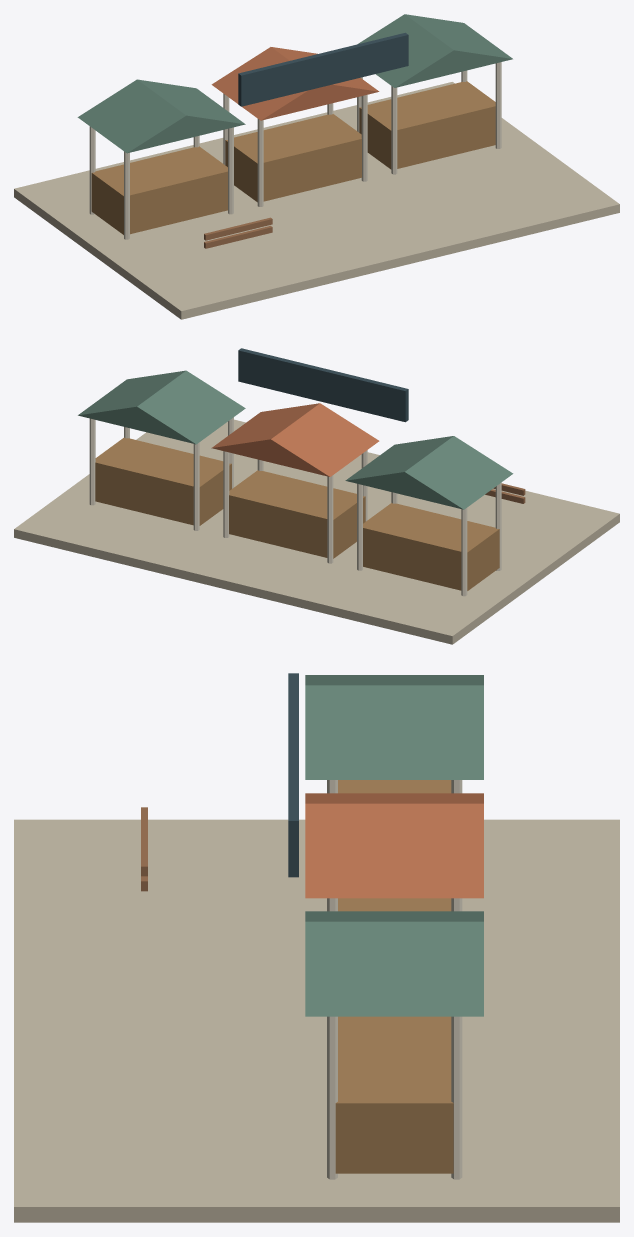
File: market_lod.glb
3 views of the same model, one above another, from view 1: azimuth 30°, elevation 25°; view 2: azimuth 150°, elevation 25°; view 3: azimuth 270°, elevation 25° (orthographic). The views are drawn at different scales.
Parts seen in each view (by area): view 1: market_Site_Paving.001, market_Market_Counter.003, market_Market_Counter.005, market_Market_Counter.004, market_Gable_Roof.003, market_Sign_Backplate.001, market_Gable_Roof.005, market_Gable_Roof.004, market_Stall_Post.021, market_Stall_Post.017, market_Stall_Post.023, market_Stall_Post.019 (+5 smaller); view 2: market_Site_Paving.001, market_Market_Counter.003, market_Market_Counter.005, market_Market_Counter.004, market_Gable_Roof.003, market_Gable_Roof.004, market_Gable_Roof.005, market_Sign_Backplate.001, market_Stall_Post.012, market_Stall_Post.016, market_Stall_Post.020, market_Stall_Post.022 (+3 smaller); view 3: market_Site_Paving.001, market_Gable_Roof.004, market_Gable_Roof.005, market_Gable_Roof.003, market_Market_Counter.005, market_Sign_Backplate.001, market_Stall_Post.022, market_Stall_Post.023, market_Market_Counter.003, market_Market_Counter.004.
Part boxes in pixels (x1,y1,x2,y2): market_Site_Paving.001: (14,82,619,319); market_Market_Counter.003: (91,146,227,234); market_Market_Counter.005: (359,81,495,169); market_Market_Counter.004: (225,114,361,202); market_Gable_Roof.003: (77,79,245,153); market_Sign_Backplate.001: (238,32,408,106); market_Gable_Roof.005: (358,14,512,87); market_Gable_Roof.004: (211,47,379,120); market_Stall_Post.021: (391,86,397,174); market_Stall_Post.017: (257,119,263,206); market_Stall_Post.023: (495,62,501,148); market_Stall_Post.019: (361,94,367,181); market_Site_Paving.001: (14,419,619,644); market_Market_Counter.003: (363,503,499,590); market_Market_Counter.005: (95,437,231,525); market_Market_Counter.004: (229,470,365,558); market_Gable_Roof.003: (345,436,513,509); market_Gable_Roof.004: (211,403,379,476); market_Gable_Roof.005: (78,370,245,444); market_Sign_Backplate.001: (238,348,408,422); market_Stall_Post.012: (461,508,467,596); market_Stall_Post.016: (327,475,333,563); market_Stall_Post.020: (193,442,199,530); market_Stall_Post.022: (89,418,95,505); market_Site_Paving.001: (14,819,619,1222); market_Gable_Roof.004: (305,793,483,898); market_Gable_Roof.005: (305,911,483,1016); market_Gable_Roof.003: (305,675,483,779); market_Market_Counter.005: (335,1016,453,1173); market_Sign_Backplate.001: (288,673,298,877); market_Stall_Post.022: (451,1016,462,1179); market_Stall_Post.023: (327,1016,337,1179); market_Market_Counter.003: (338,780,451,793); market_Market_Counter.004: (338,898,451,911).
Size of the model in its own units: 11.8 by 4 by 7.8.
